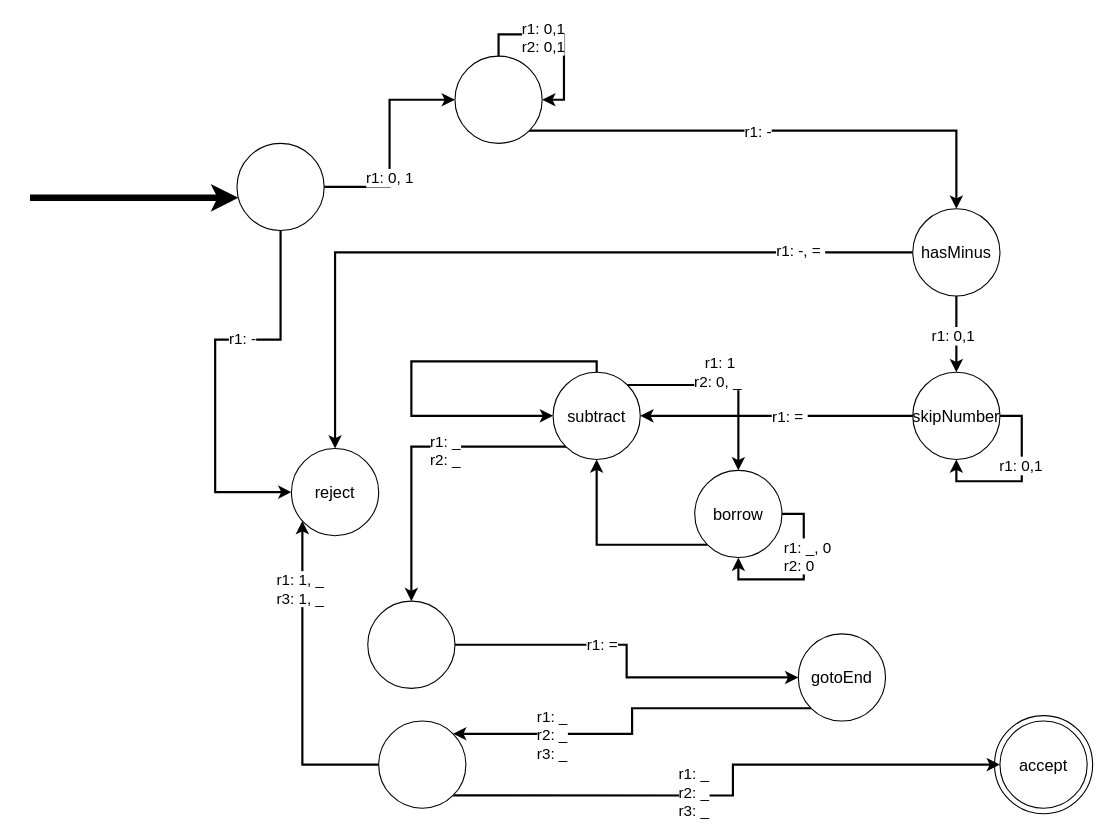
Image size: 1112x839. Some labels were removed from this diagram. The shapes that lost their labels are listed below. From the top down, each one's centre as x and y in pixels, then its label:
the point at 498,99: copy
the point at 280,186: start
the point at 411,644: check
the point at 422,764: compare
